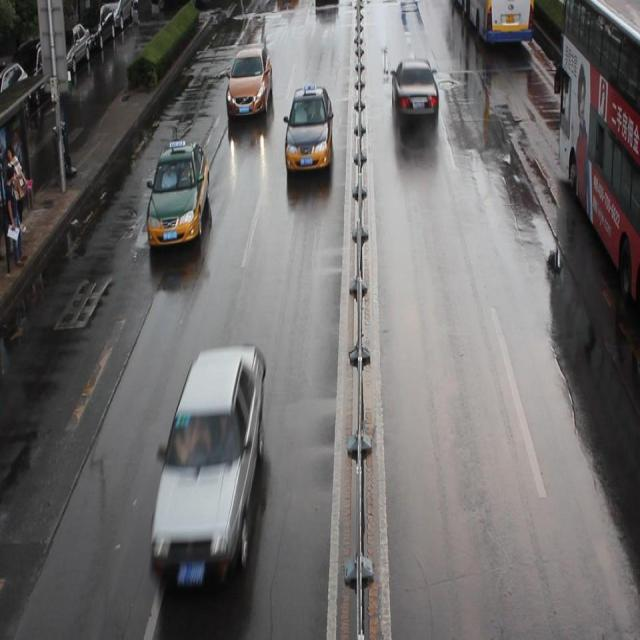car: (148, 342, 266, 584), (146, 138, 210, 247), (283, 84, 334, 171), (224, 47, 274, 120), (392, 58, 438, 122), (313, 1, 338, 12)
van: (556, 1, 640, 310), (453, 1, 534, 43)
